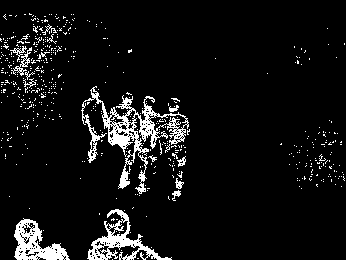person: (106, 89, 142, 189), (157, 95, 190, 201), (135, 93, 165, 193), (81, 86, 107, 163)
